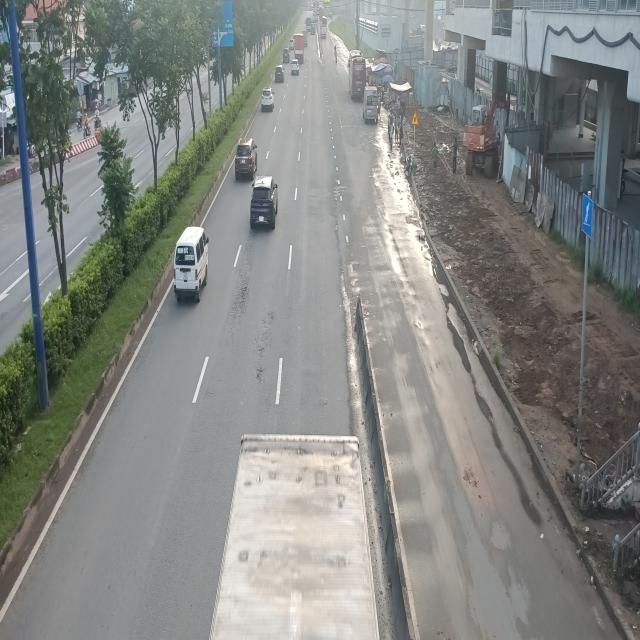car: (252, 177, 282, 231), (235, 138, 259, 180), (261, 88, 274, 112)
coach: (350, 49, 364, 103)
van: (174, 226, 211, 302), (362, 84, 379, 122)
